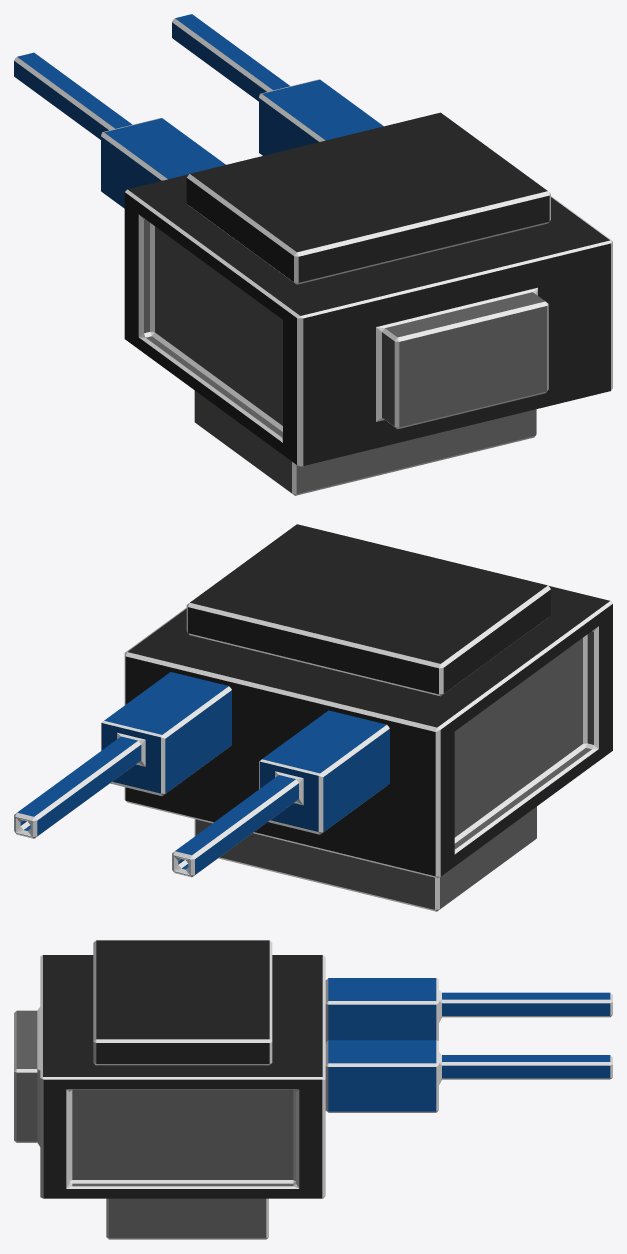
The model's file is Turret.fbx.
3 renders of one model, top to bottom at view 1: azimuth 30°, elevation 25°; view 2: azimuth 150°, elevation 25°; view 3: azimuth 270°, elevation 25°, orthographic. The views are drawn at different scales.
Parts seen in each view (by area): view 1: Cube.001; view 2: Cube.001; view 3: Cube.001.
Boxes of the visible parts, bbox=[...] form: Cube.001: bbox=[14, 14, 612, 495]; Cube.001: bbox=[14, 524, 612, 911]; Cube.001: bbox=[14, 940, 612, 1239].
Bounding box in the file's own units: 2 × 1.52 × 4.06.
